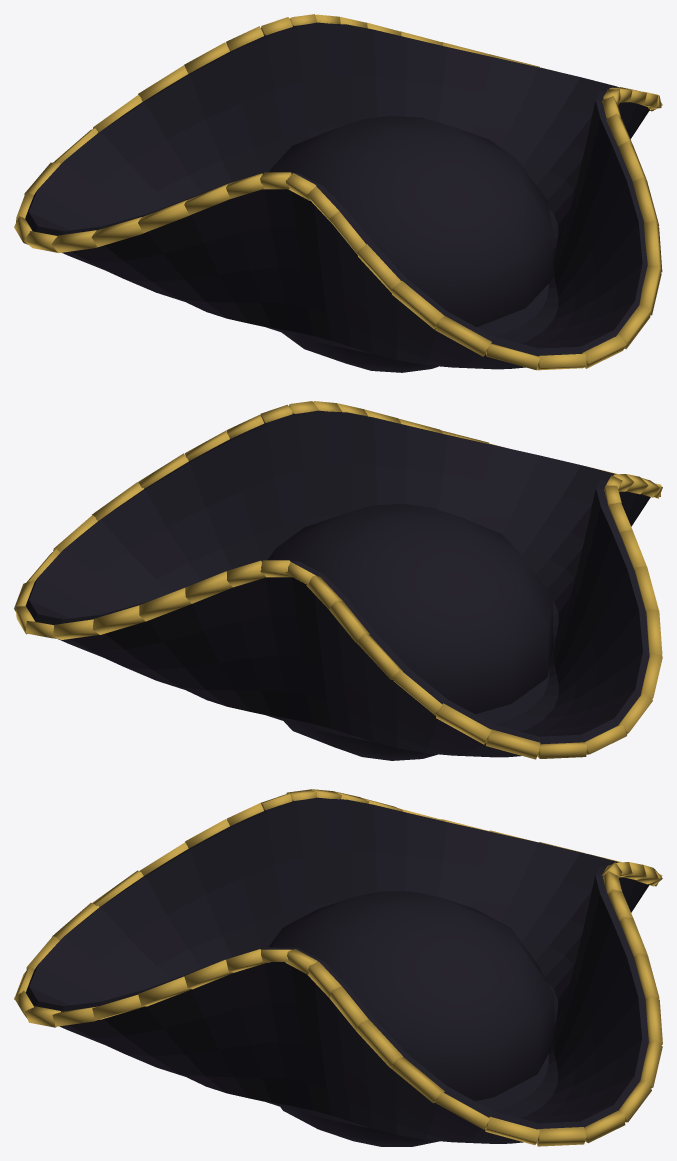
The model's file is dreispitz.glb.
The picture shows the model from 3 angles, top to bottom: view 1: azimuth 30°, elevation 25°; view 2: azimuth 150°, elevation 25°; view 3: azimuth 270°, elevation 25°; orthographic projection.
Visible parts, largest first — view 1: krempe; view 2: krempe; view 3: krempe.
Part boxes in pixels (x1=…): krempe: x1=14, y1=14, x2=662, y2=372; krempe: x1=14, y1=401, x2=662, y2=760; krempe: x1=14, y1=789, x2=662, y2=1146.
Bounding box in the file's own units: 0.4754 × 0.1946 × 0.4422.
